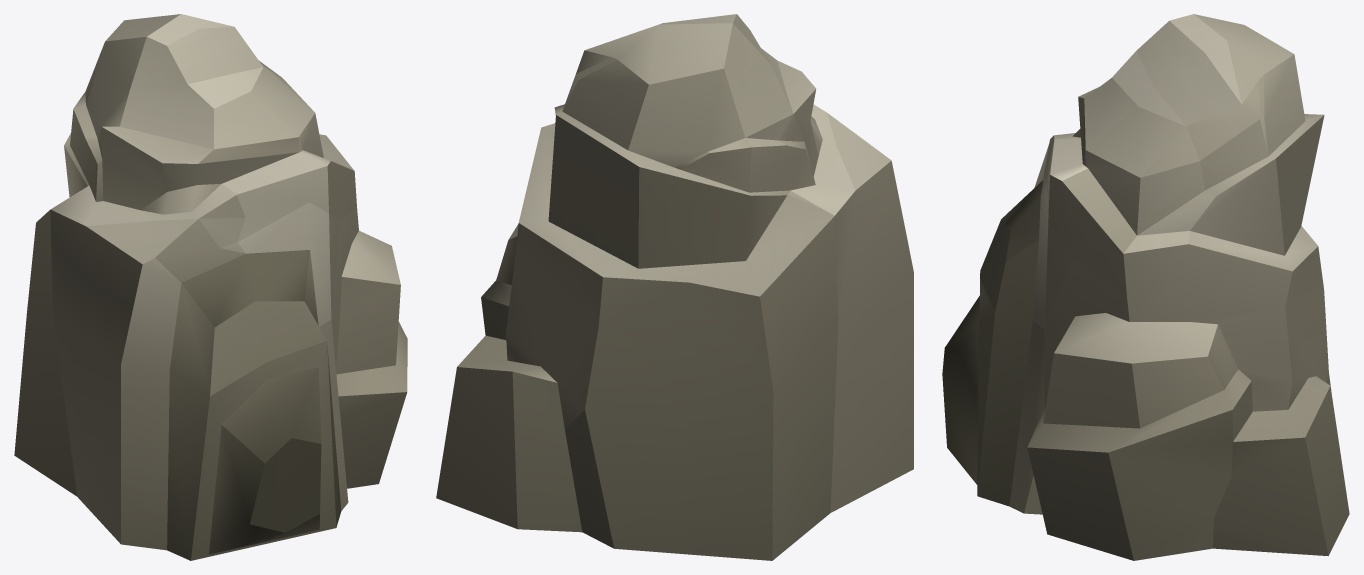
Rendered from mine.fbx.
3 views of the same model, side by side, from view 1: azimuth 30°, elevation 25°; view 2: azimuth 150°, elevation 25°; view 3: azimuth 270°, elevation 25° (orthographic). The views are drawn at different scales.
Visible parts, largest first — view 1: mine_enterance; view 2: mine_enterance; view 3: mine_enterance.
Part boxes in pixels (left/top/right/bottom): mine_enterance: left=14, top=14, right=407, bottom=560; mine_enterance: left=436, top=14, right=913, bottom=560; mine_enterance: left=942, top=14, right=1349, bottom=560.
Bounding box in the file's own units: 724 × 956 × 800.
